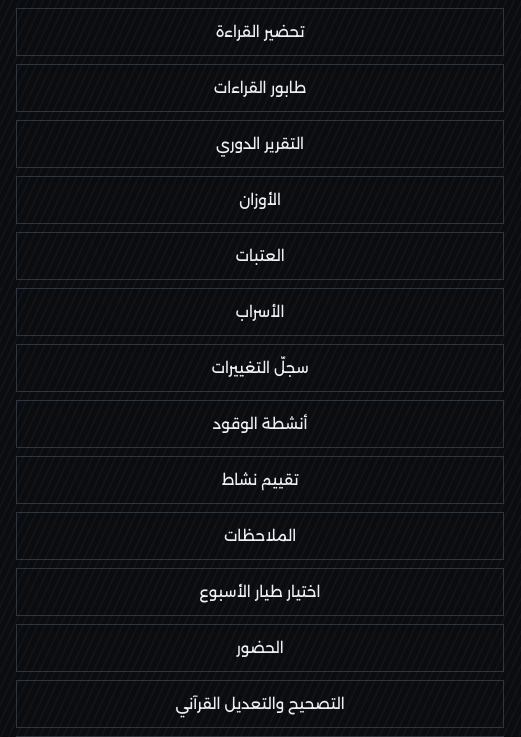
Scenario: نافذة المشرف — و-٧ › سجلّ التغييرات: الحالة الفارغة صريحة لا شاشة معطوبة
The image size is (521, 737).
(page scrolled)
Click the button "سجلّ التغييرات": click(260, 368) [16, 344, 504, 392]
(page scrolled)
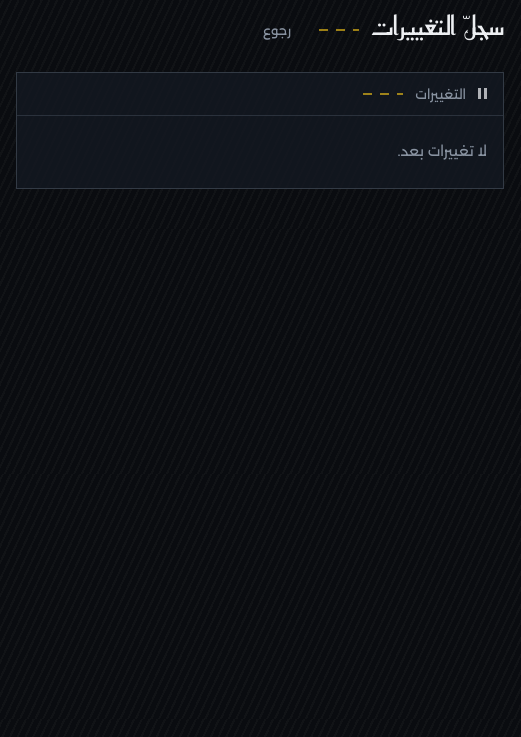
Check: the text "لا تغييرات بعد." is shown, box [398, 142, 487, 160]
